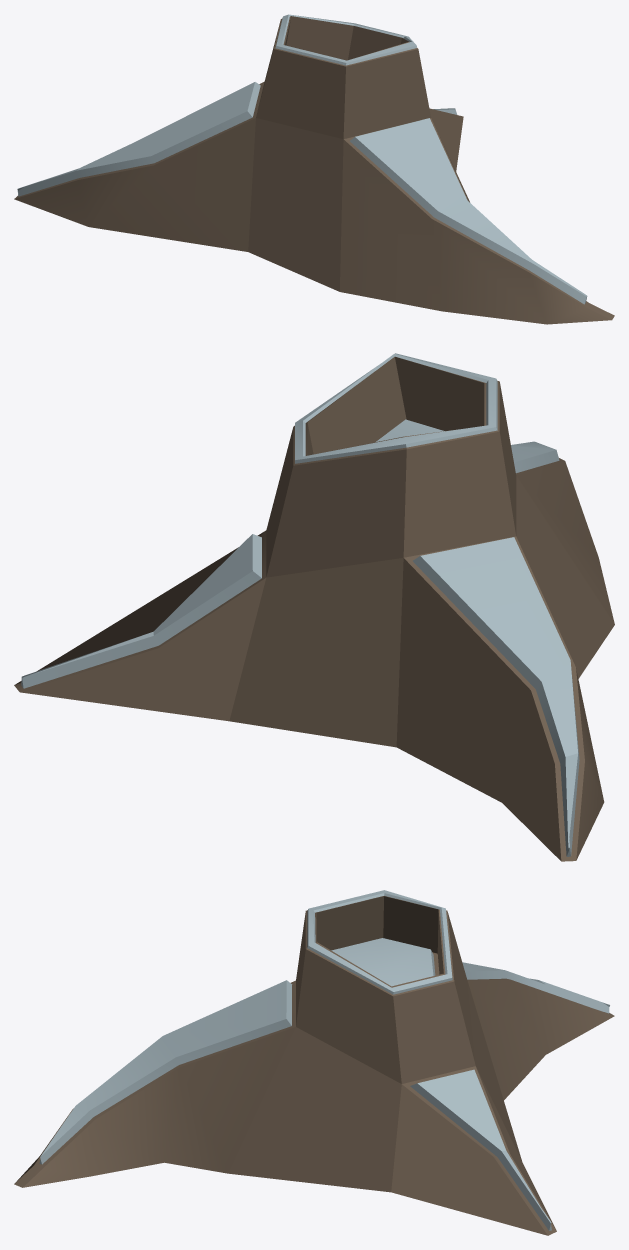
The model's file is Geo_Stump.fbx.
3 views of the same model, one above another, from view 1: azimuth 30°, elevation 25°; view 2: azimuth 150°, elevation 25°; view 3: azimuth 270°, elevation 25° (orthographic). The views are drawn at different scales.
Visible parts, largest first — view 1: TreeStump_Mesh; view 2: TreeStump_Mesh; view 3: TreeStump_Mesh.
Boxes of the visible parts, box(x1,y1,x2,y2) form: TreeStump_Mesh: box(14, 14, 614, 324); TreeStump_Mesh: box(14, 353, 614, 861); TreeStump_Mesh: box(14, 890, 614, 1235).
Size of the model in its own units: 125 by 54.62 by 142.
